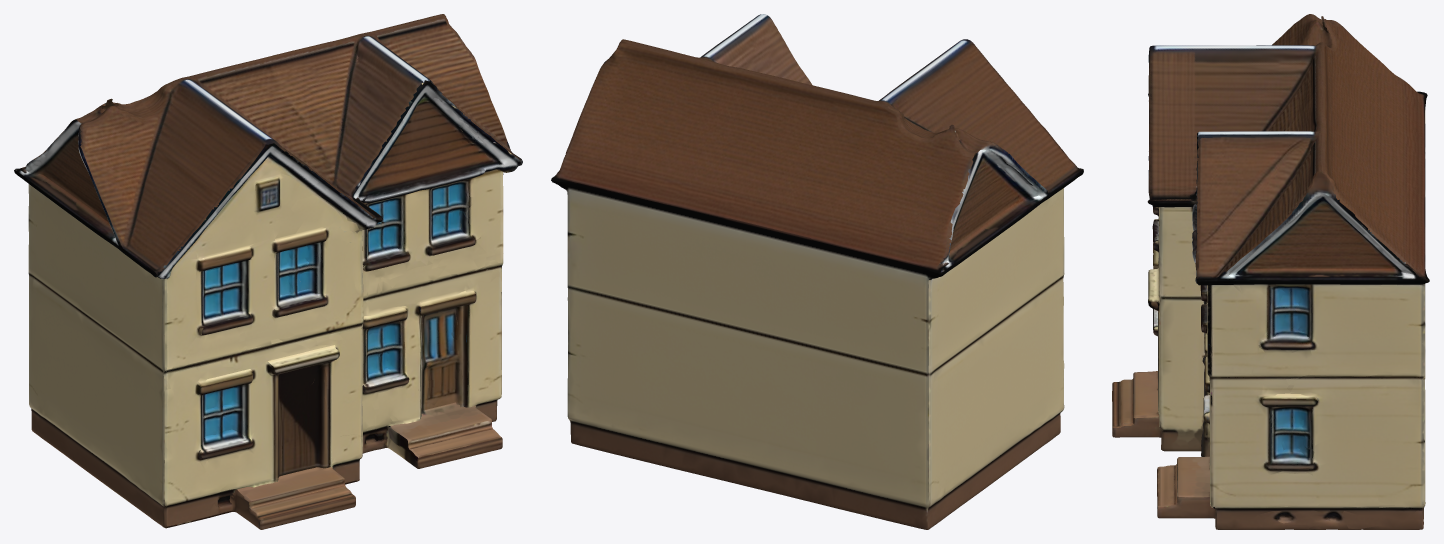
The model's file is house-duplex.glb.
3 views of the same model, side by side, from view 1: azimuth 30°, elevation 25°; view 2: azimuth 150°, elevation 25°; view 3: azimuth 270°, elevation 25° (orthographic). The views are drawn at different scales.
Parts seen in each view (by area): view 1: tmpycnznv3w.ply; view 2: tmpycnznv3w.ply; view 3: tmpycnznv3w.ply.
Part boxes in pixels (box(x1,y1,x2,y2)): tmpycnznv3w.ply: box(14, 14, 522, 529); tmpycnznv3w.ply: box(551, 14, 1083, 529); tmpycnznv3w.ply: box(1112, 14, 1429, 529).
Bounding box in the file's own units: 1.96 × 1.75 × 1.4.
1 material, 1 textured.
